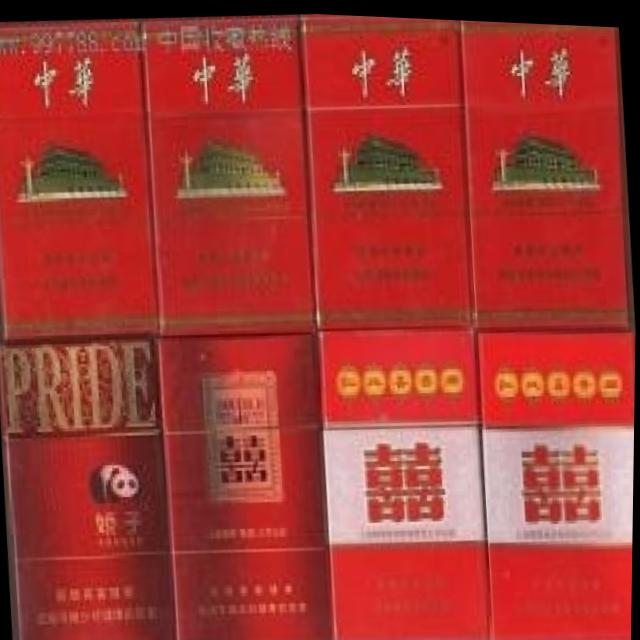box: (140, 11, 316, 334), (298, 11, 476, 328), (316, 326, 490, 640), (458, 16, 634, 326), (159, 331, 334, 640), (0, 334, 176, 640), (0, 17, 159, 345), (476, 323, 636, 640)
